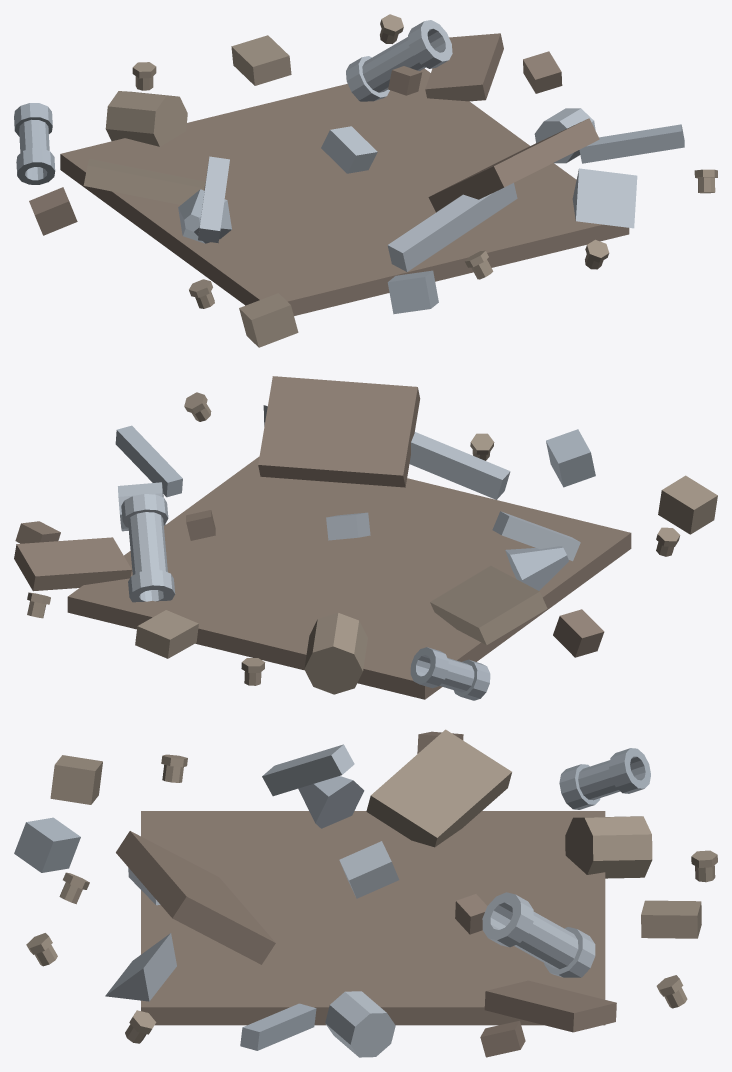
The model's file is rubble_flat.glb.
3 renders of one model, top to bottom at view 1: azimuth 30°, elevation 25°; view 2: azimuth 150°, elevation 25°; view 3: azimuth 270°, elevation 25°, orthographic. The views are drawn at different scales.
Parts seen in each view (by area): view 1: DebrisBase, BrokenPanel_0, Beam_0, BentPipe_0, BrokenPanel_2, CylFrag_0, WedgeFrag, BrokenPanel_1, BentPipe_1, Beam_1, Chunk_4, Chunk_1 (+12 smaller); view 2: DebrisBase, BrokenPanel_0, BrokenPanel_1, BrokenPanel_2, BentPipe_0, CylFrag_0, Beam_0, BentPipe_1, Chunk_4, Chunk_1, Beam_1, Chunk_2 (+10 smaller); view 3: DebrisBase, BrokenPanel_1, BrokenPanel_0, BentPipe_0, CylFrag_0, BrokenPanel_2, BentPipe_1, CylFrag_1, Chunk_2, Beam_2, WedgeFrag, Chunk_1 (+12 smaller).
Boxes of the visible parts, x1,y1,x2,y2 form: DebrisBase: [60, 68, 629, 315]; BrokenPanel_0: [428, 118, 599, 212]; Beam_0: [387, 183, 517, 271]; BentPipe_0: [346, 20, 452, 101]; BrokenPanel_2: [425, 33, 503, 101]; CylFrag_0: [105, 91, 187, 146]; WedgeFrag: [572, 168, 637, 228]; BrokenPanel_1: [83, 158, 205, 204]; BentPipe_1: [14, 103, 55, 184]; Beam_1: [579, 124, 684, 163]; Chunk_4: [239, 293, 298, 347]; Chunk_1: [231, 35, 291, 85]; DebrisBase: [67, 456, 631, 699]; BrokenPanel_0: [258, 376, 420, 487]; BrokenPanel_1: [430, 565, 547, 645]; BrokenPanel_2: [14, 537, 131, 591]; BentPipe_0: [121, 494, 175, 602]; CylFrag_0: [304, 612, 367, 694]; Beam_0: [409, 432, 510, 499]; BentPipe_1: [410, 647, 490, 700]; Chunk_4: [658, 475, 717, 534]; Chunk_1: [135, 610, 198, 658]; Beam_1: [115, 425, 182, 497]; Chunk_2: [546, 429, 595, 487]; DebrisBase: [141, 811, 605, 1025]; BrokenPanel_1: [366, 729, 511, 847]; BrokenPanel_0: [116, 831, 275, 964]; BentPipe_0: [482, 892, 595, 977]; CylFrag_0: [565, 816, 652, 878]; BrokenPanel_2: [484, 980, 616, 1032]; BentPipe_1: [559, 748, 650, 809]; CylFrag_1: [325, 991, 395, 1057]; Chunk_2: [14, 817, 80, 872]; Beam_2: [262, 744, 354, 796]; WedgeFrag: [105, 933, 176, 1001]; Chunk_1: [641, 900, 701, 938].
Size of the model in its own units: 1.11 by 0.206 by 1.06.
